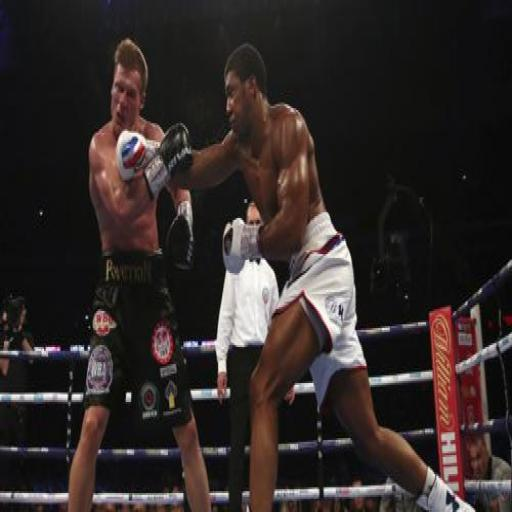boxing: (118, 40, 477, 510), (80, 50, 404, 512)
